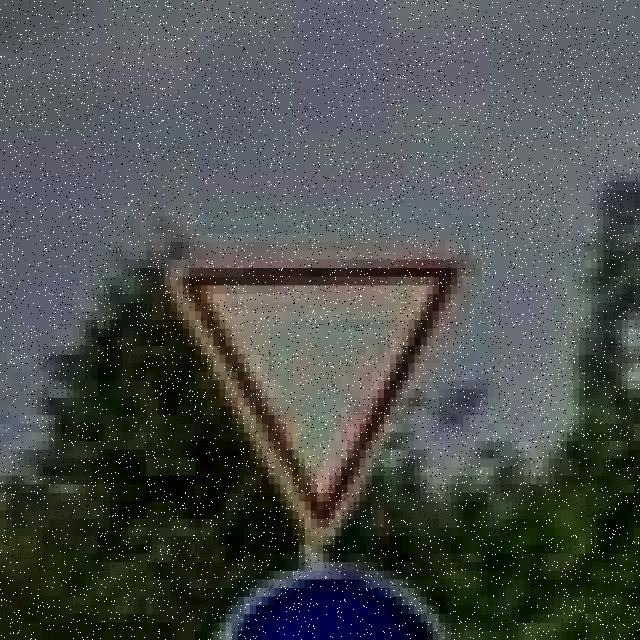Ustap pierwszenstwa: (164, 251, 470, 545)
